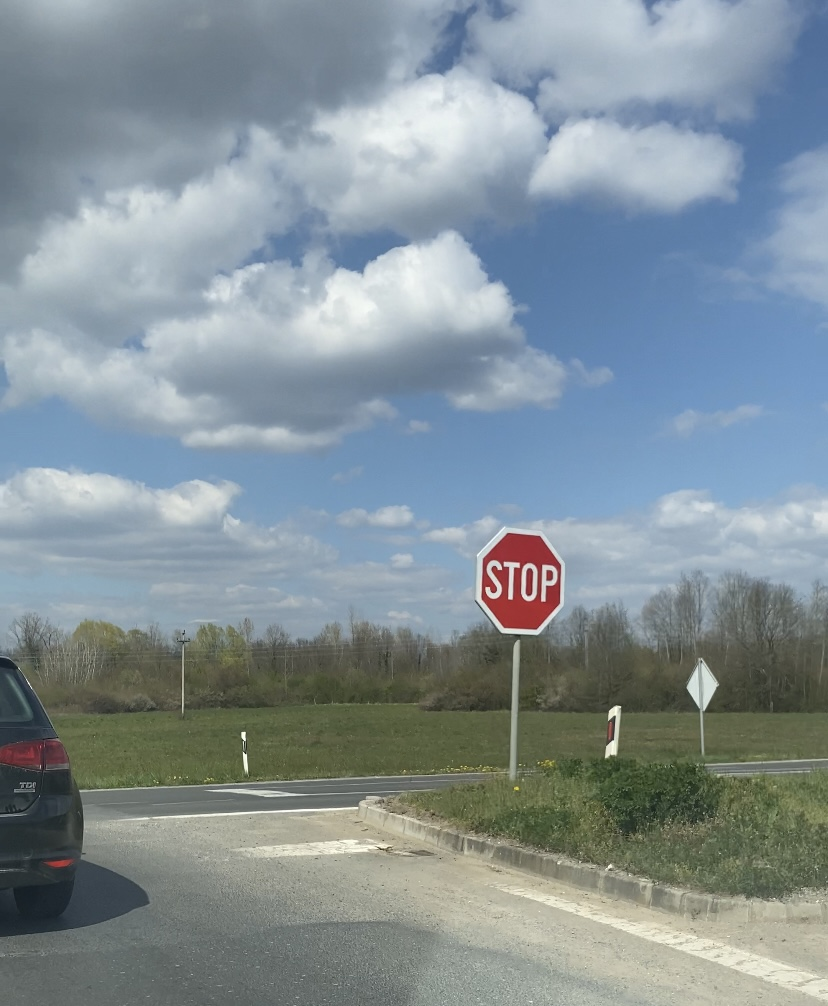Obavezno zaustavljanje: (474, 525, 565, 635)
